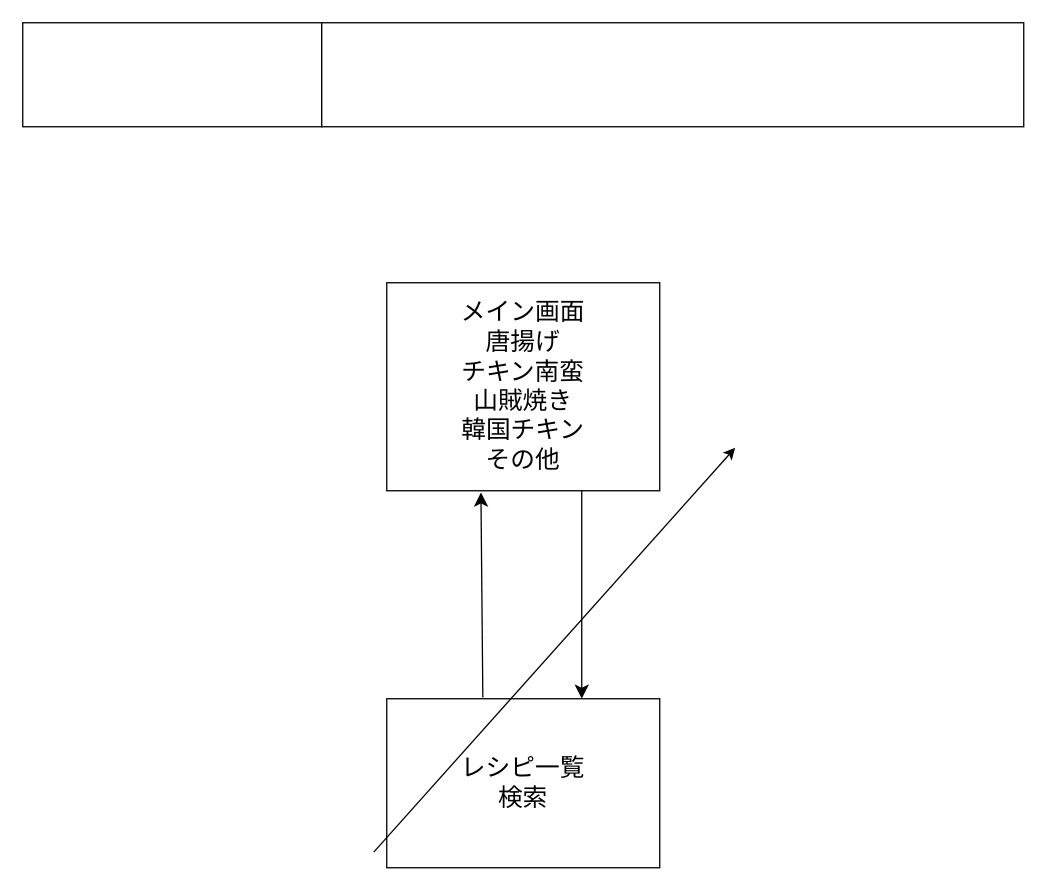
Some shapes in this 1047 by 890 pixel diagram are drawn without their labels. The centre of each missing label's shape, as x and y in pixels:
"アーキテクチャ" goes at [171,74].
"レシピ一覧" goes at [672,74].
